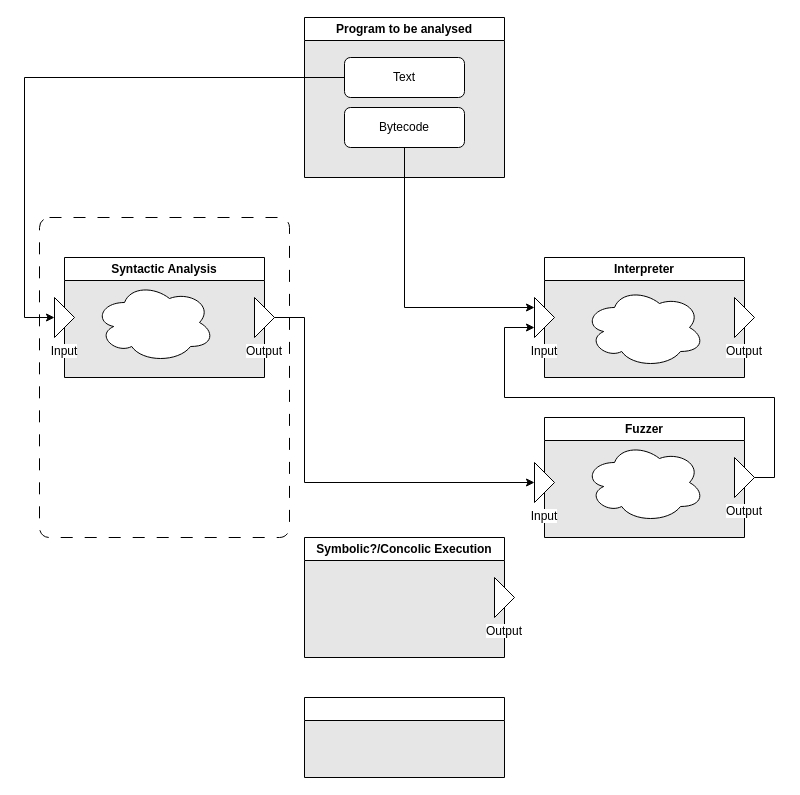
Image size: 800x795. Some labels were removed from this diagram. Each missing label, with the centre of its shape:
"Abstract Interpreter" goes at point 404,737.
"Finds interesting input values" goes at point 154,322.
"Generates input values" goes at point 644,482.
"Runs Program" goes at point 644,327.
